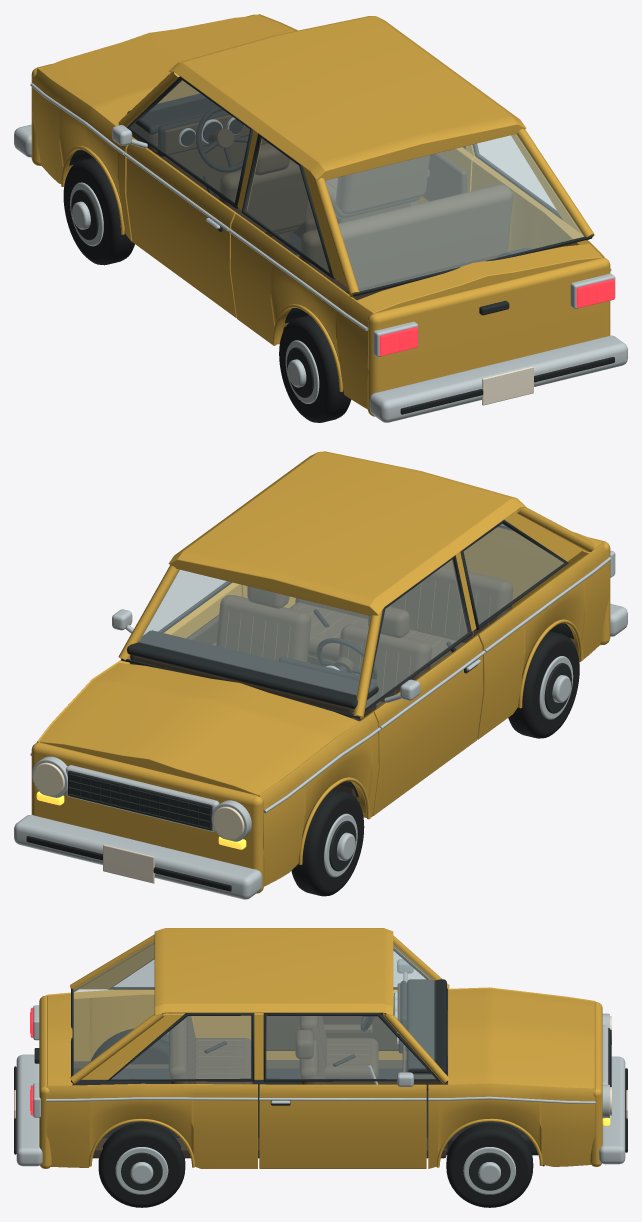
File: Civic.fbx
3 views of the same model, one above another, from view 1: azimuth 30°, elevation 25°; view 2: azimuth 150°, elevation 25°; view 3: azimuth 270°, elevation 25° (orthographic). The views are drawn at different scales.
Visible parts, largest first — view 1: Civic; view 2: Civic; view 3: Civic.
Part boxes in pixels (x1=…): Civic: x1=14, y1=14, x2=627, y2=422; Civic: x1=14, y1=451, x2=627, y2=899; Civic: x1=14, y1=928, x2=627, y2=1207.
Size of the model in its own units: 178 by 138 by 389.
